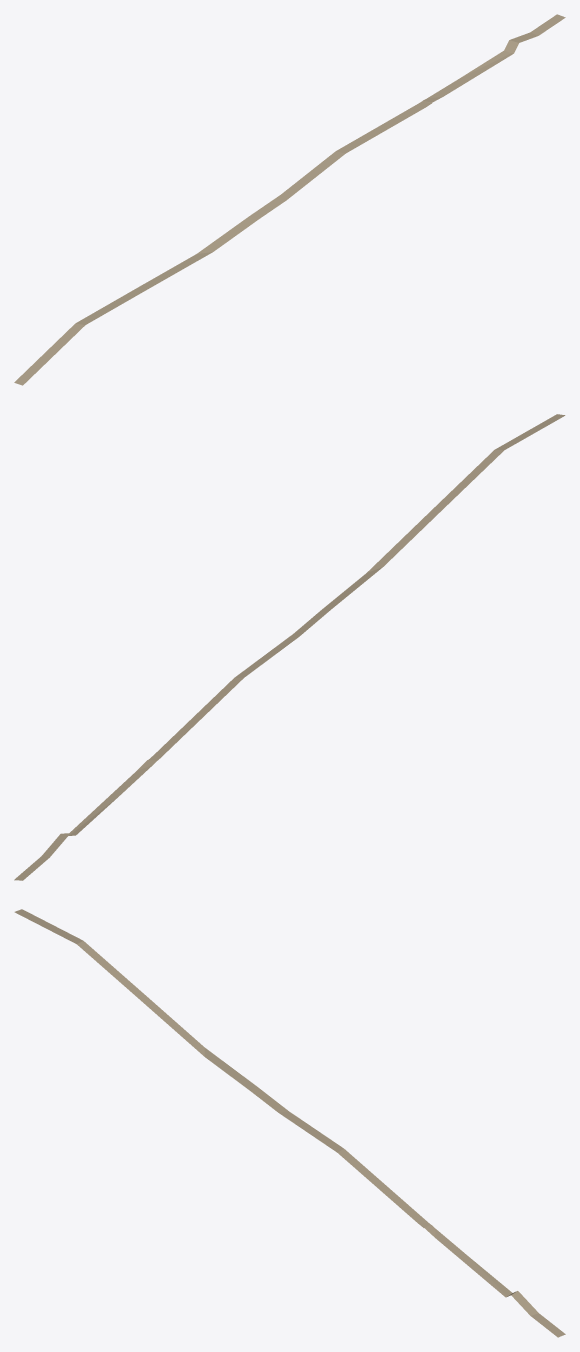
Rendered from farm_-3_-1_track.glb.
3 views of the same model, one above another, from view 1: azimuth 30°, elevation 25°; view 2: azimuth 210°, elevation 25°; view 3: azimuth 270°, elevation 25° (orthographic). The views are drawn at different scales.
Parts seen in each view (by area): view 1: geometry_0; view 2: geometry_0; view 3: geometry_0.
Part boxes in pixels (<box>): geometry_0: <box>14,14,565,385</box>; geometry_0: <box>14,414,565,880</box>; geometry_0: <box>14,909,565,1337</box>.
Size of the model in its own units: 314 by 22.21 by 192.
